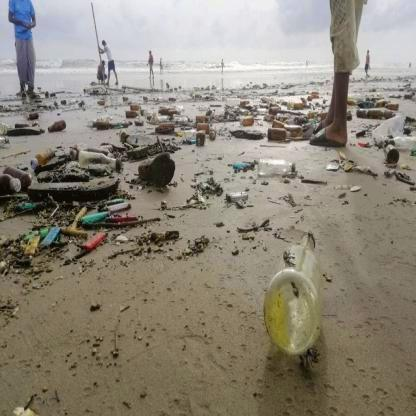Plastic: (258, 226, 324, 356), (256, 157, 298, 180), (383, 136, 416, 162)
